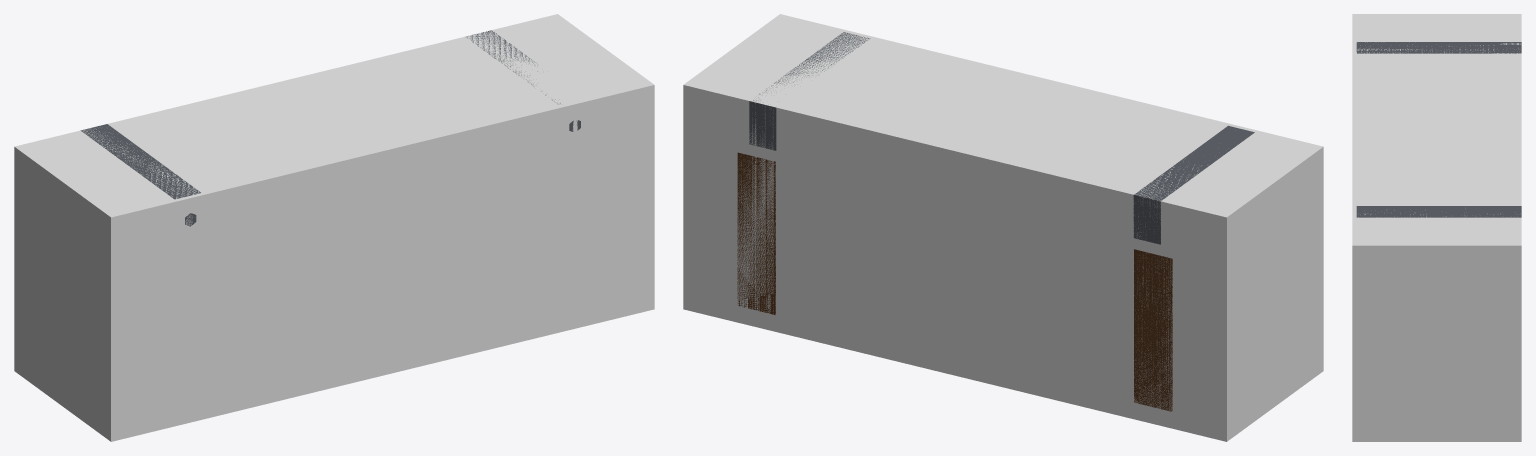
The model's file is smith_wall_shelf.glb.
3 views of the same model, side by side, from view 1: azimuth 30°, elevation 25°; view 2: azimuth 150°, elevation 25°; view 3: azimuth 270°, elevation 25° (orthographic). The views are drawn at different scales.
Visible parts, largest first — view 1: COL_smith_wall_shelf_00, strap_l_band, strap_r_band; view 2: COL_smith_wall_shelf_00, back_board_batten_left, back_board_batten_right, strap_l_band, strap_r_band; view 3: COL_smith_wall_shelf_00, strap_r_band, strap_l_band.
Part boxes in pixels (x1,y1,x2,y2): COL_smith_wall_shelf_00: [14, 14, 654, 441]; strap_l_band: [80, 124, 200, 226]; strap_r_band: [466, 30, 580, 131]; COL_smith_wall_shelf_00: [683, 14, 1323, 441]; back_board_batten_left: [1134, 249, 1172, 411]; back_board_batten_right: [737, 152, 775, 314]; strap_l_band: [1133, 125, 1254, 244]; strap_r_band: [749, 32, 870, 150]; COL_smith_wall_shelf_00: [1352, 14, 1521, 441]; strap_r_band: [1356, 206, 1521, 217]; strap_l_band: [1356, 42, 1521, 53].
Bounding box in the file's own units: 0.9046 × 0.357 × 0.2792.
